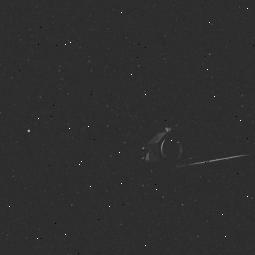earth_observation_sat_1: (130, 120, 251, 171)
